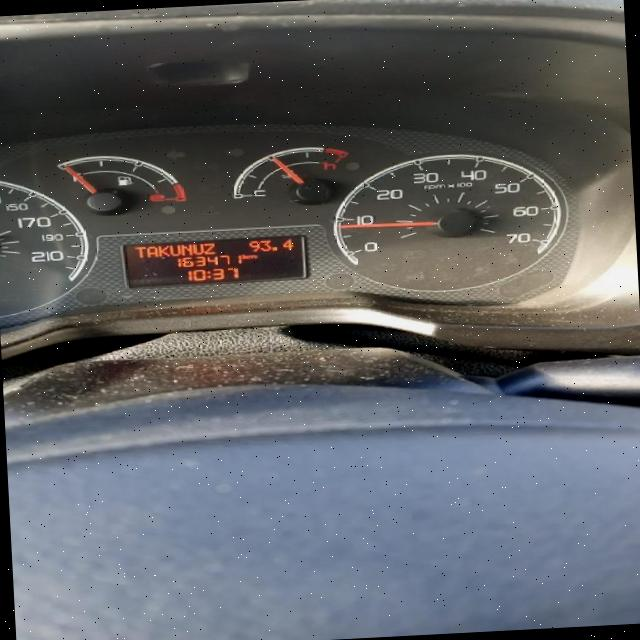odometer: (117, 232, 311, 290)
